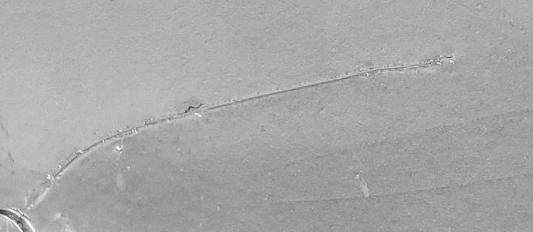scratch: (1, 0, 533, 232)
